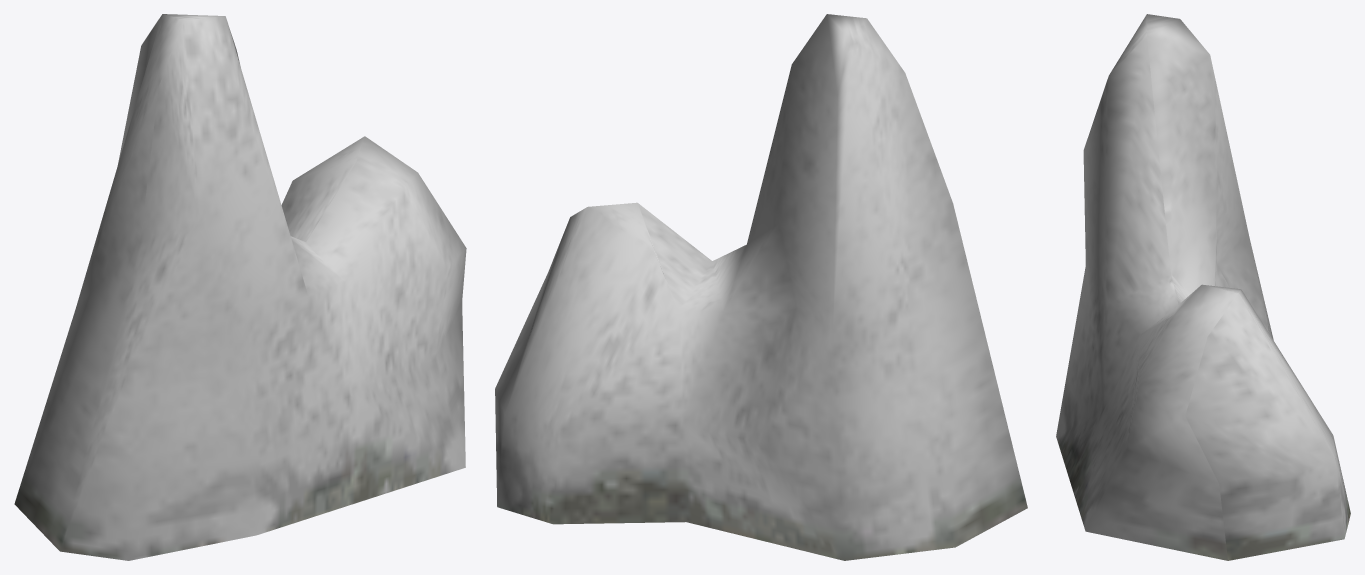
The model's file is general_obj_stone12_lod_01.fbx.
The picture shows the model from 3 angles, left to right: view 1: azimuth 30°, elevation 25°; view 2: azimuth 150°, elevation 25°; view 3: azimuth 270°, elevation 25°; orthographic projection. The views are drawn at different scales.
Parts seen in each view (by area): view 1: Sphere01; view 2: Sphere01; view 3: Sphere01.
Part boxes in pixels (x1,y1,x2,y2): Sphere01: (14, 14, 466, 560); Sphere01: (495, 14, 1027, 560); Sphere01: (1056, 14, 1350, 560).
Size of the model in its own units: 3.74 by 3.7 by 2.39.
